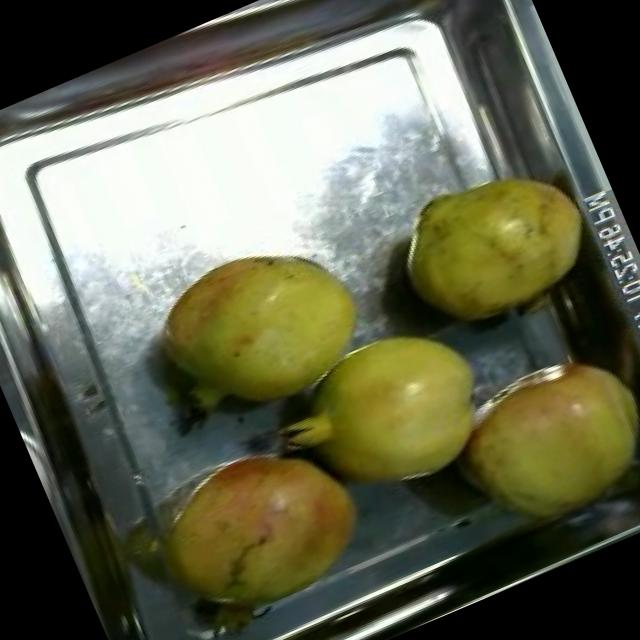fruit: (125, 207, 398, 450), (251, 292, 523, 534), (126, 405, 394, 640), (374, 140, 616, 353), (427, 324, 640, 555)
